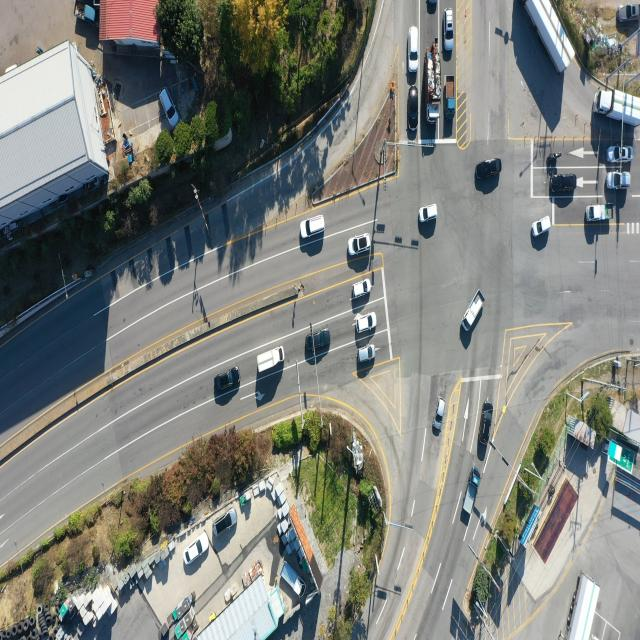car: (159, 85, 182, 130), (185, 535, 211, 568), (213, 368, 240, 393), (303, 330, 330, 355), (214, 507, 236, 536), (480, 406, 495, 446), (301, 214, 325, 238), (348, 234, 372, 257), (474, 161, 500, 182), (410, 27, 421, 75), (355, 312, 377, 334), (617, 2, 640, 23), (531, 214, 551, 238), (432, 397, 444, 436), (609, 145, 634, 163), (351, 278, 371, 300), (410, 88, 420, 132), (606, 172, 630, 190), (445, 10, 455, 51), (419, 204, 438, 223), (356, 345, 375, 364), (559, 174, 579, 192), (427, 0, 438, 16)
medium_truck: (520, 0, 574, 76), (565, 574, 600, 640), (597, 86, 640, 128), (426, 49, 440, 122)
small_truck: (280, 560, 306, 600), (256, 345, 286, 377), (461, 469, 480, 517), (462, 292, 483, 333), (72, 0, 99, 25), (586, 203, 615, 224), (447, 77, 458, 121)
